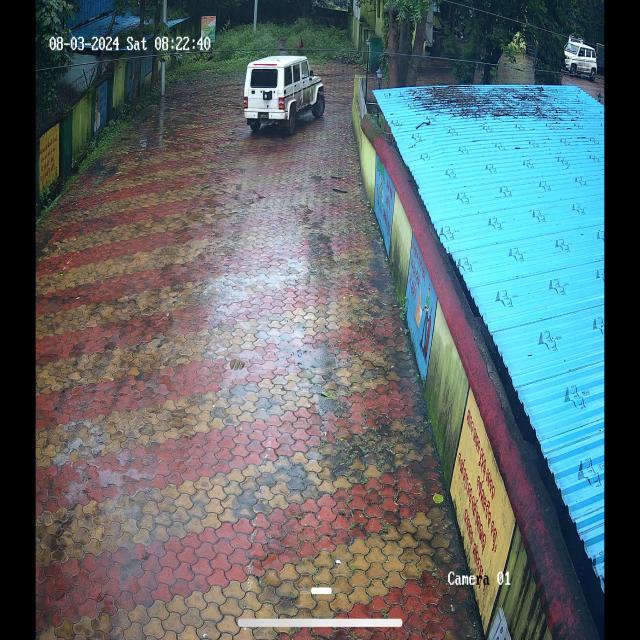light_vehicle: (240, 42, 326, 134), (563, 40, 600, 82)
